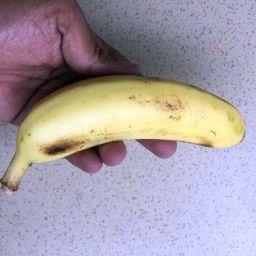Banana Ripe: (7, 75, 247, 210)
